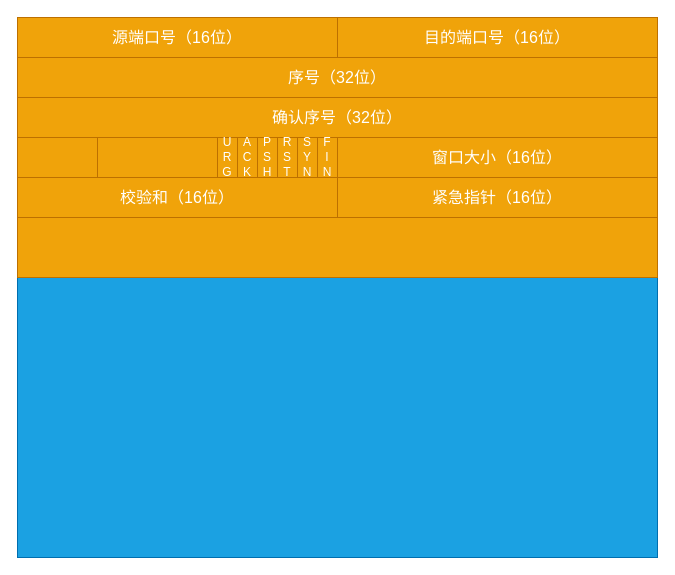
Image size: 675x575. Some labels were removed from this diagram. The shapes that lost their labels are listed below. From the top down, each one's box as (x1, y1, x2, y2) in pixels, then its label:
(16, 136, 98, 178): 数据偏移（4位）
(96, 136, 218, 178): 保留 （6位）
(16, 216, 658, 278): 选项
(16, 276, 658, 558): 数据
